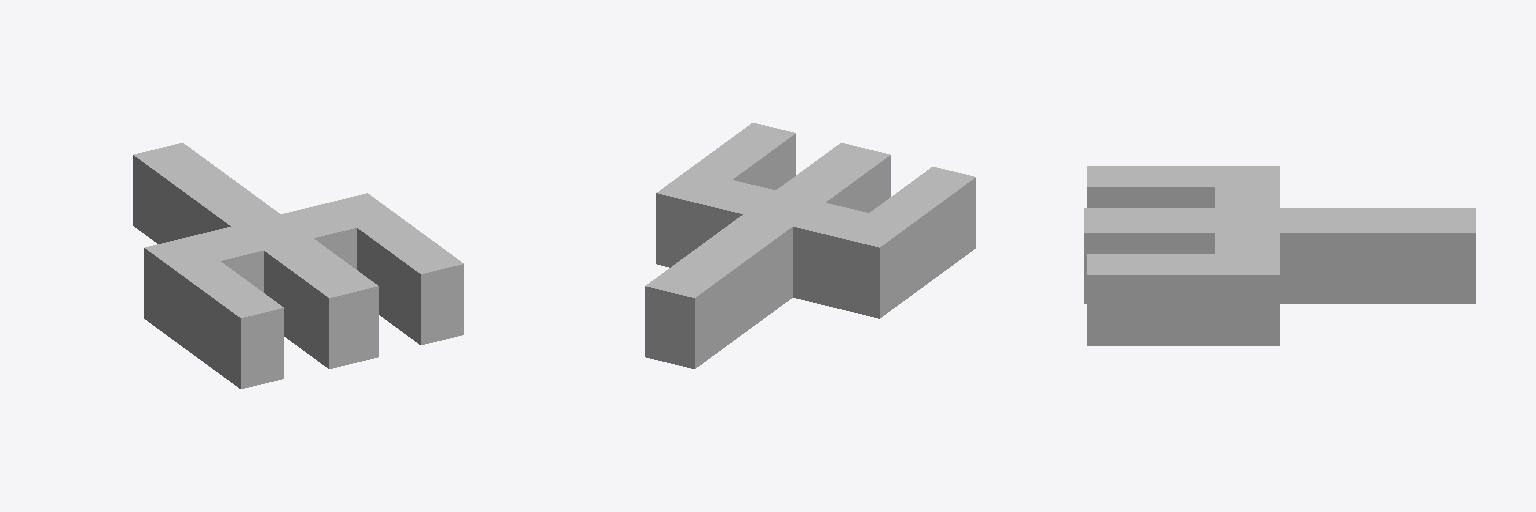
The model's file is enemyBullet.obj.
The picture shows the model from 3 angles: view 1: azimuth 30°, elevation 25°; view 2: azimuth 150°, elevation 25°; view 3: azimuth 270°, elevation 25°; orthographic projection.
Parts seen in each view (by area): view 1: 立方体; view 2: 立方体; view 3: 立方体.
Boxes of the visible parts, box(x1,y1,x2,y2) form: 立方体: box(133, 143, 463, 388); 立方体: box(645, 123, 975, 368); 立方体: box(1084, 166, 1475, 345).
Size of the model in its own units: 1.97 by 0.6 by 3.